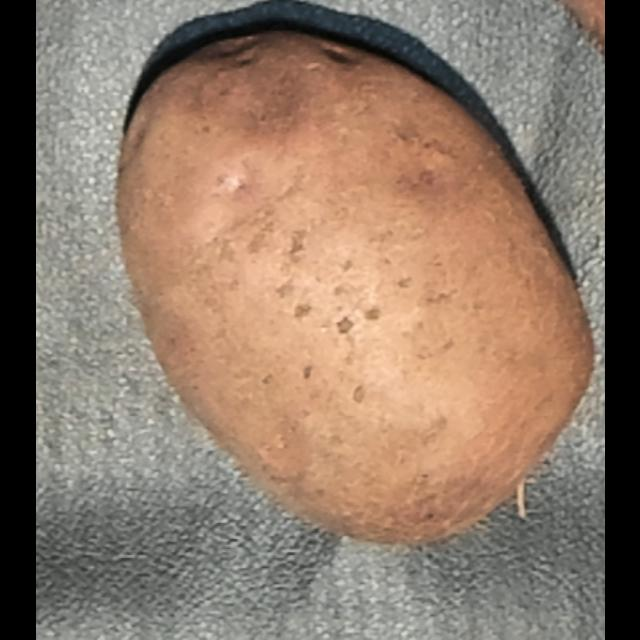Diseased-fungal potato: (110, 22, 604, 556)
